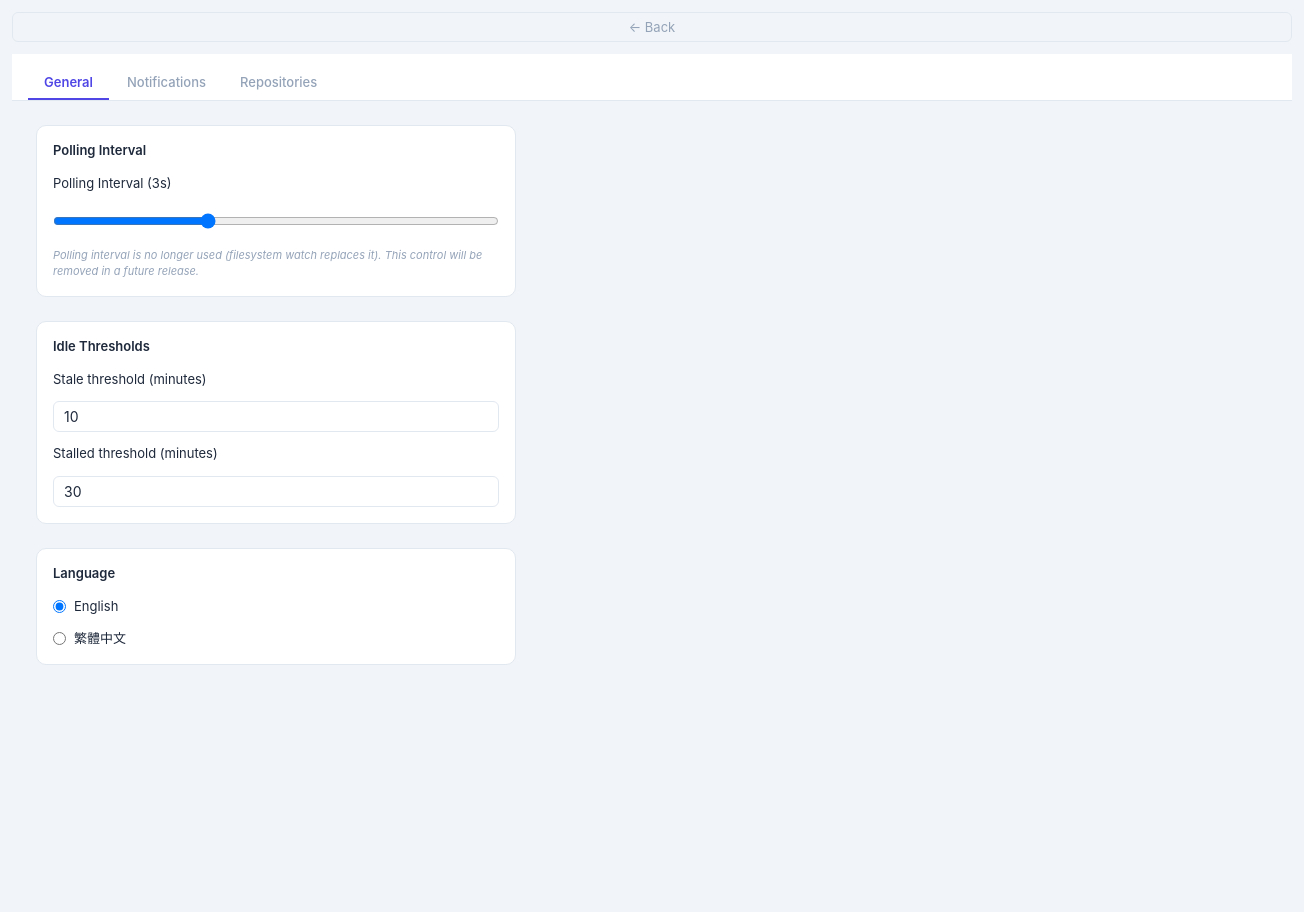
Settings — Repositories tab (AC2.a/b/c) › lists registered repositories with a remove button each
Click the tab "Repositories".
click(279, 83)  # box left=224, top=66, right=333, bottom=100
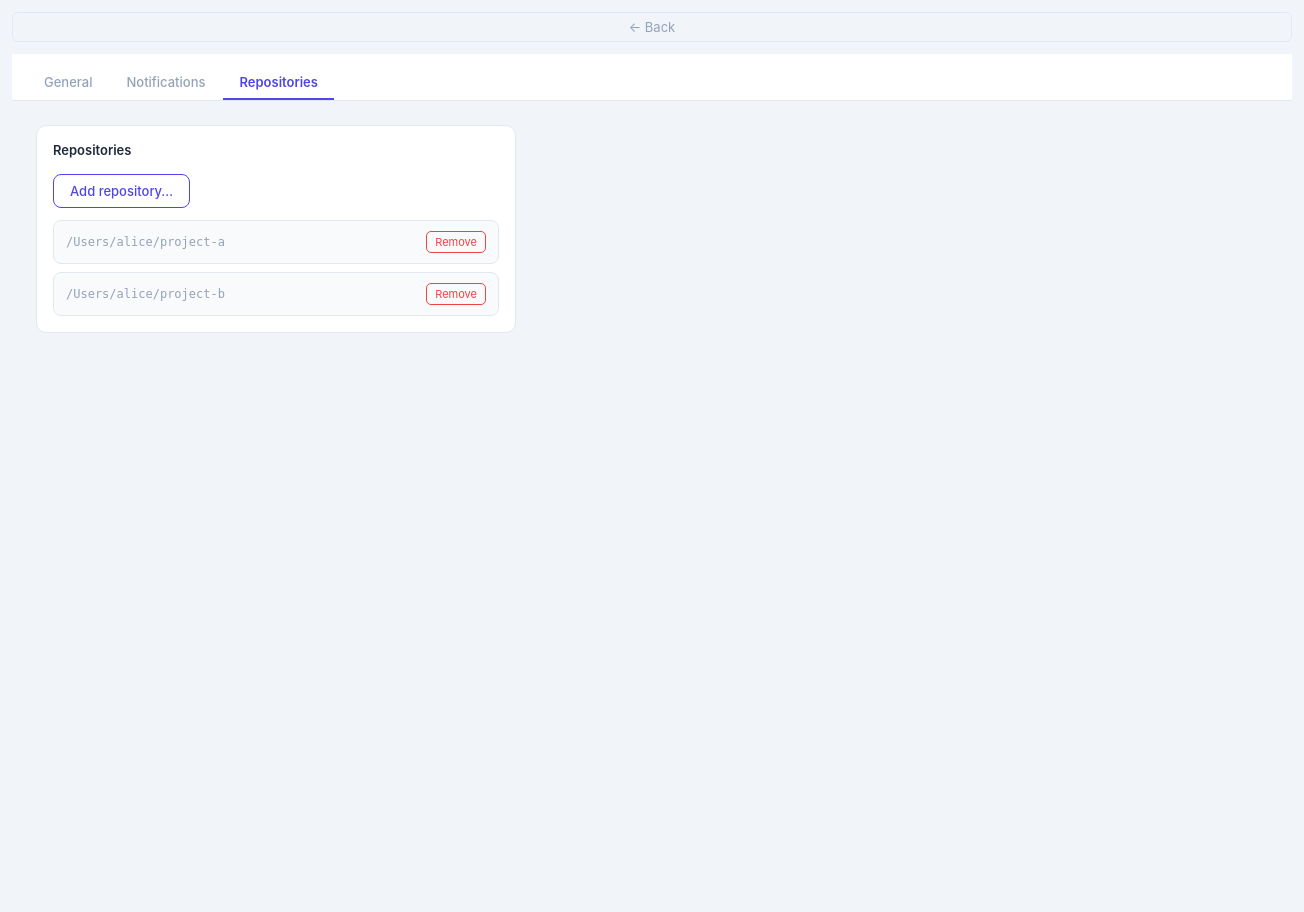
Expected: the text "/Users/alice/project-a" is shown, left=66, top=235, right=225, bottom=249
Expected: the text "/Users/alice/project-b" is shown, left=66, top=287, right=225, bottom=301
Expected: the number of buttons "Remove" is 2, left=426, top=231, right=486, bottom=253; left=426, top=283, right=486, bottom=305
